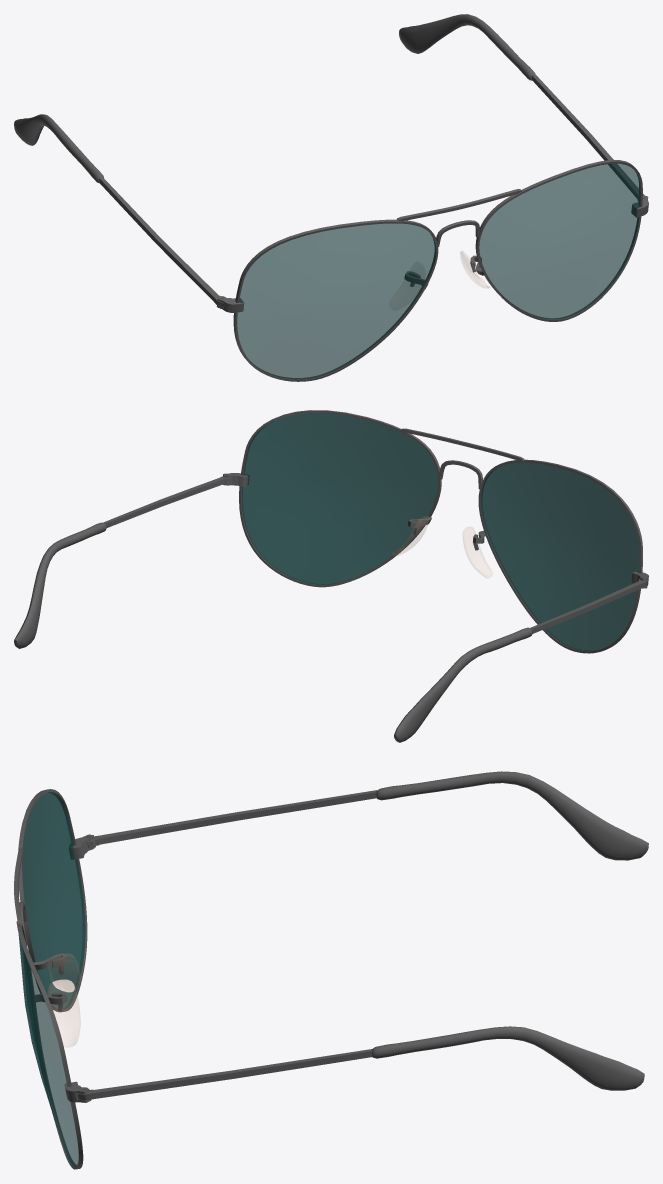
The model's file is glasses.glb.
3 views of the same model, one above another, from view 1: azimuth 30°, elevation 25°; view 2: azimuth 150°, elevation 25°; view 3: azimuth 270°, elevation 25° (orthographic). The views are drawn at different scales.
Visible parts, largest first — view 1: Ray Ban Aviator Sunglasses_Ray Ban Aviator.001_0; view 2: Ray Ban Aviator Sunglasses_Ray Ban Aviator.001_0; view 3: Ray Ban Aviator Sunglasses_Ray Ban Aviator.001_0.
Boxes of the visible parts, box(x1,y1,x2,y2) form: Ray Ban Aviator Sunglasses_Ray Ban Aviator.001_0: box(14, 14, 648, 381); Ray Ban Aviator Sunglasses_Ray Ban Aviator.001_0: box(14, 410, 648, 742); Ray Ban Aviator Sunglasses_Ray Ban Aviator.001_0: box(14, 771, 648, 1169).
Size of the model in its own units: 0.8085 by 0.292 by 0.8269.
